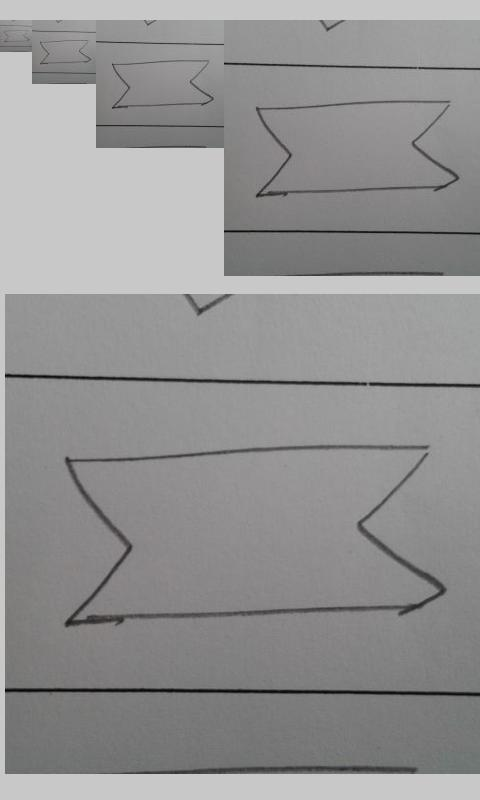edit_text: (57, 441, 446, 629), (251, 97, 458, 198), (111, 59, 214, 109), (40, 39, 91, 64), (4, 29, 30, 43)
